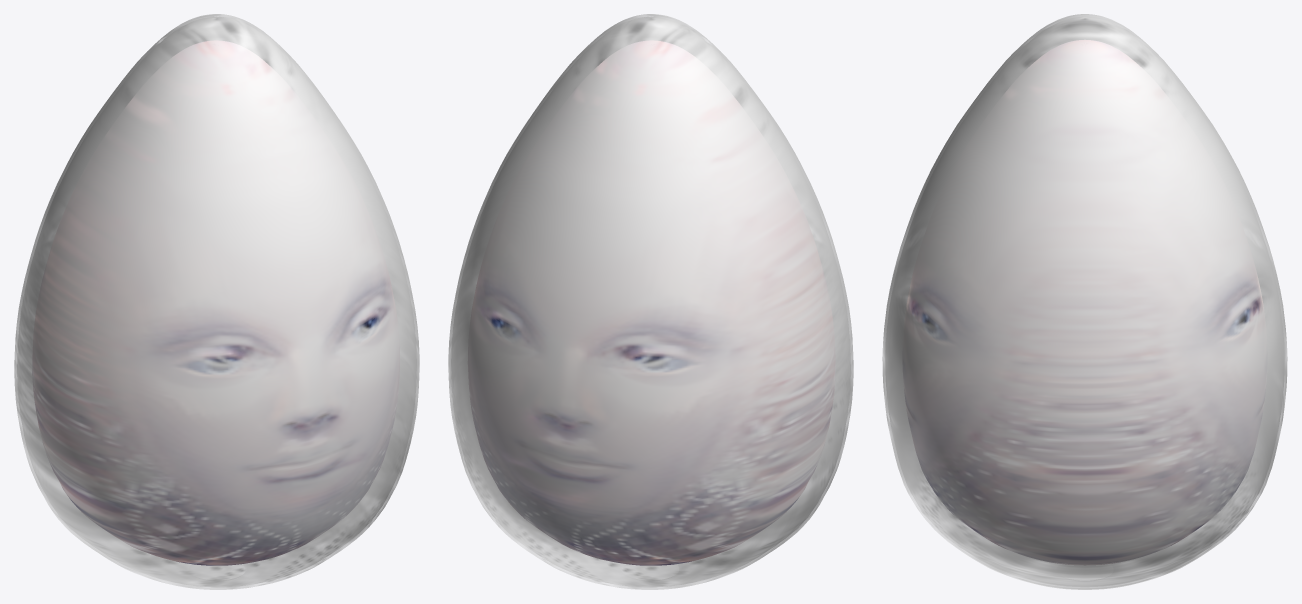
Rendered from egg_6.glb.
3 renders of one model, left to right at view 1: azimuth 30°, elevation 25°; view 2: azimuth 150°, elevation 25°; view 3: azimuth 270°, elevation 25°, orthographic.
Parts seen in each view (by area): view 1: Material_001-material, Material_002-material; view 2: Material_001-material, Material_002-material; view 3: Material_001-material, Material_002-material.
Part boxes in pixels (x1=…): Material_001-material: x1=14, y1=14, x2=419, y2=589; Material_002-material: x1=32, y1=40, x2=399, y2=565; Material_001-material: x1=448, y1=14, x2=853, y2=589; Material_002-material: x1=468, y1=40, x2=835, y2=565; Material_001-material: x1=882, y1=14, x2=1287, y2=589; Material_002-material: x1=903, y1=40, x2=1266, y2=565.
Size of the model in its own units: 4.48 by 6.71 by 4.47.
2 materials, 2 textured.
